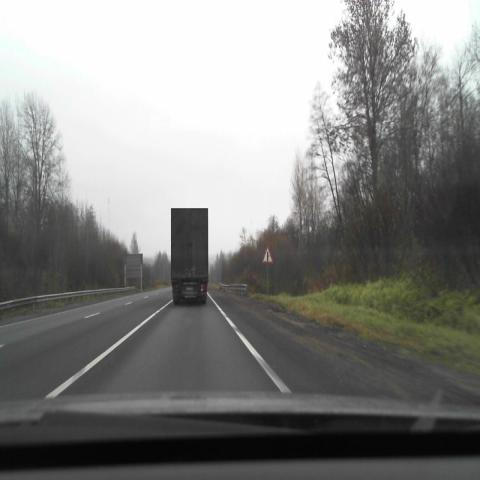2_3_2: (262, 245, 274, 264)
